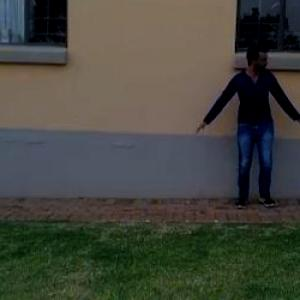land: (186, 35, 299, 229)
